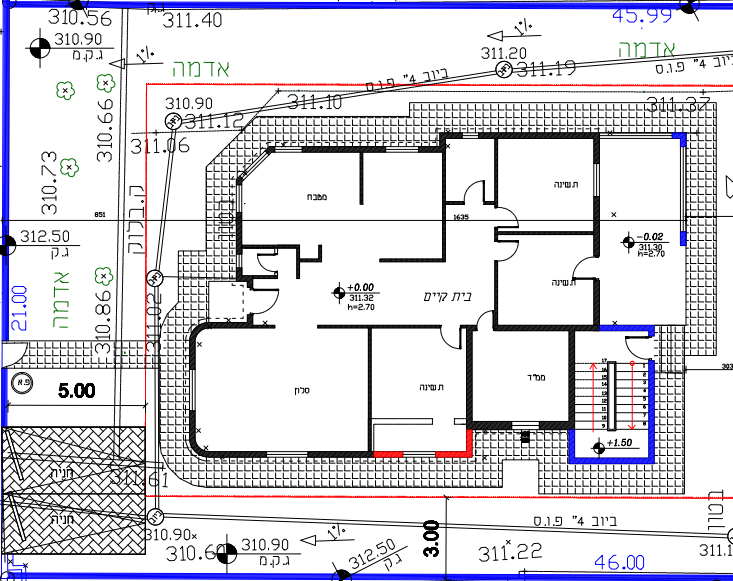door: (570, 251, 592, 289), (435, 331, 462, 359), (258, 285, 284, 314), (621, 333, 643, 361), (503, 204, 525, 231), (464, 178, 488, 200), (255, 250, 272, 272), (476, 308, 494, 328)
wall: (489, 132, 598, 138), (442, 134, 446, 264), (467, 327, 472, 427), (368, 324, 372, 448), (501, 325, 599, 330), (570, 325, 574, 426), (594, 198, 601, 254)
window: (266, 448, 308, 461), (386, 143, 419, 159), (590, 162, 603, 198), (274, 144, 303, 160), (511, 418, 540, 433), (401, 448, 436, 460), (462, 132, 480, 140)
